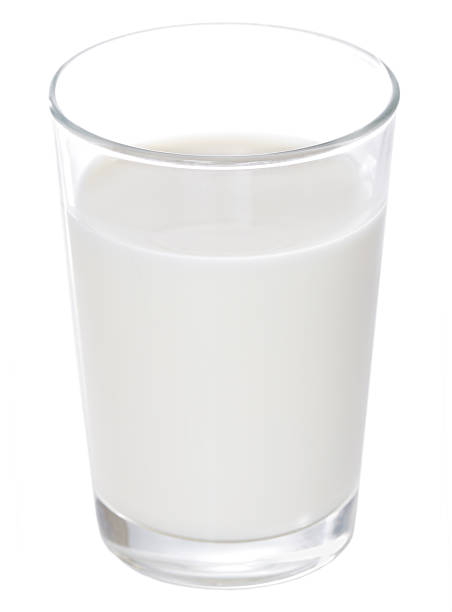glass of milk: (36, 15, 416, 592)
